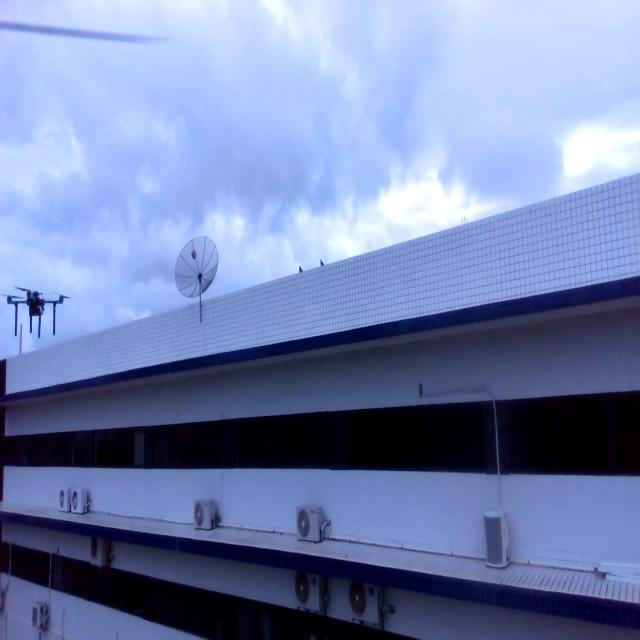-uav-: (2, 274, 74, 351)
